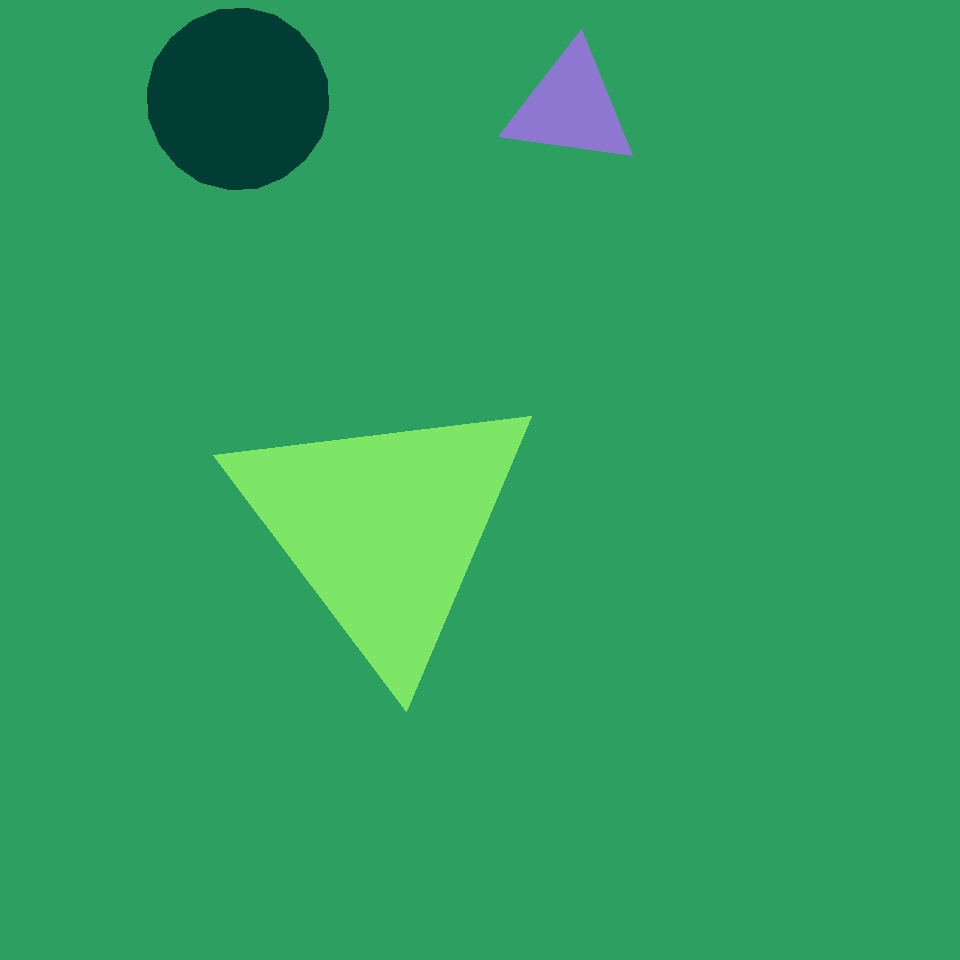circle: (225, 380, 543, 676), (174, 159, 418, 428), (504, 44, 638, 170), (238, 212, 323, 295)
square: (304, 80, 540, 316), (289, 706, 479, 896)
triangle: (148, 8, 328, 190)
